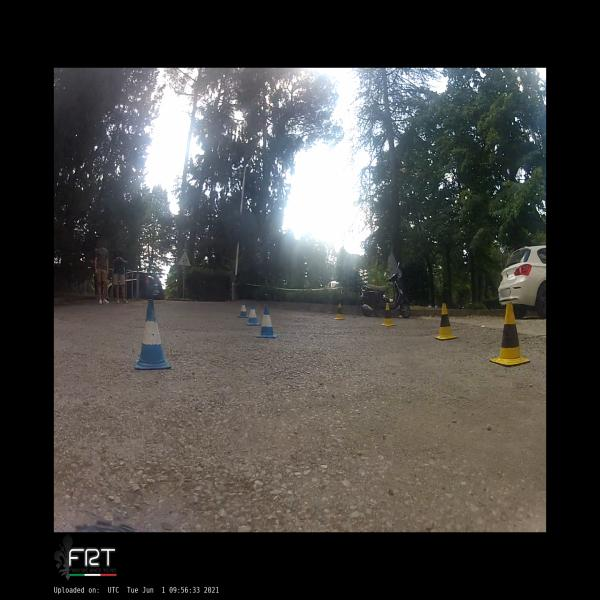blue_cone: (136, 298, 172, 371), (256, 307, 278, 338), (246, 300, 260, 326), (238, 300, 249, 318)
yellow_cone: (490, 302, 530, 366), (434, 303, 458, 340), (380, 303, 396, 327), (333, 303, 346, 320)
